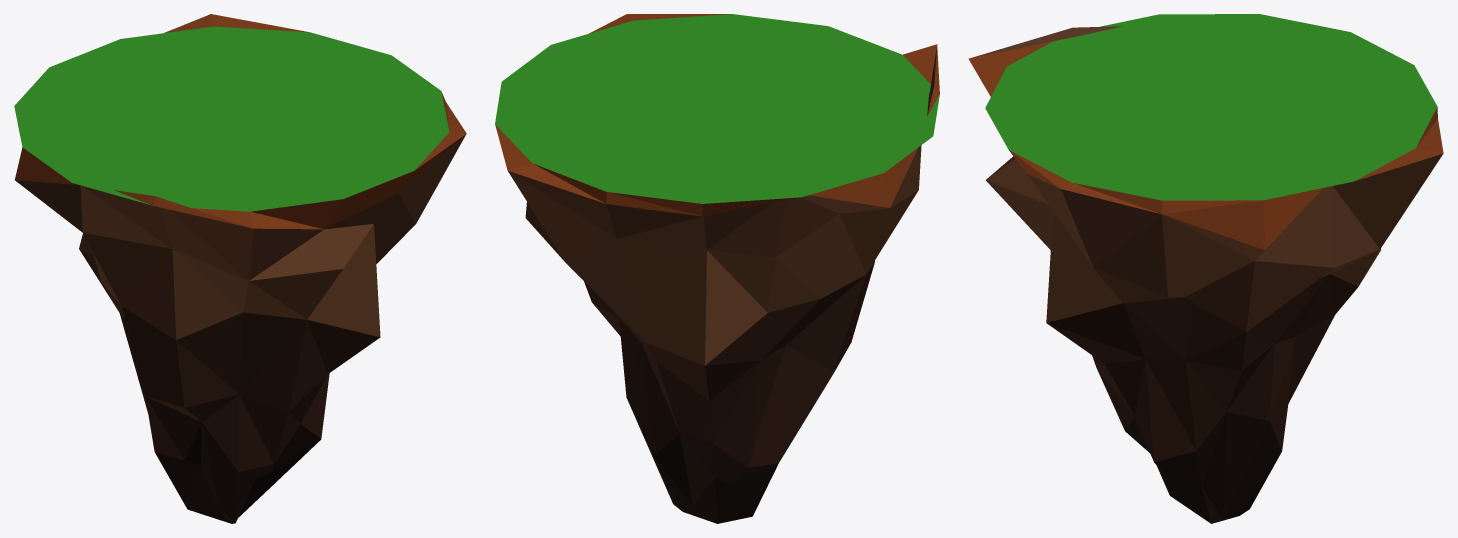
File: SM_Rock_C.fbx
3 views of the same model, side by side, from view 1: azimuth 30°, elevation 25°; view 2: azimuth 150°, elevation 25°; view 3: azimuth 270°, elevation 25° (orthographic). The views are drawn at different scales.
Visible parts, largest first — view 1: SM_Rock_C; view 2: SM_Rock_C; view 3: SM_Rock_C.
Boxes of the visible parts, x1,y1,x2,y2 form: SM_Rock_C: (14, 14, 466, 523); SM_Rock_C: (495, 14, 939, 523); SM_Rock_C: (968, 14, 1443, 523).
Bounding box in the file's own units: 6.23 × 6.51 × 6.41.
